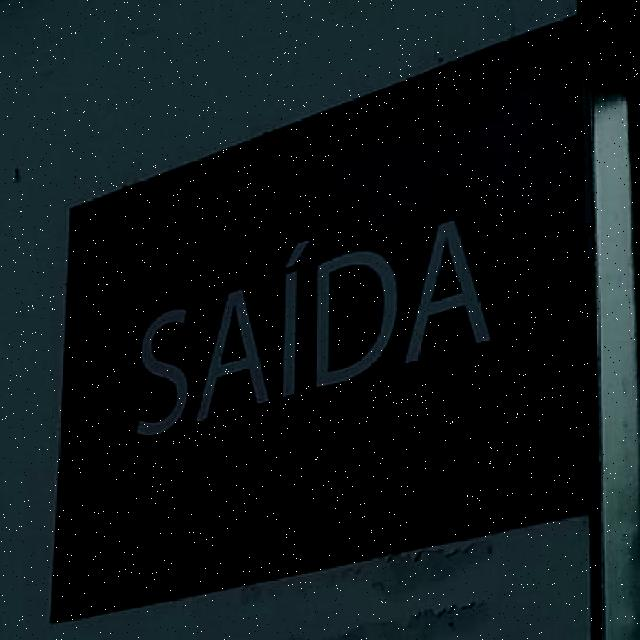emergency_exit: (48, 9, 607, 627)
